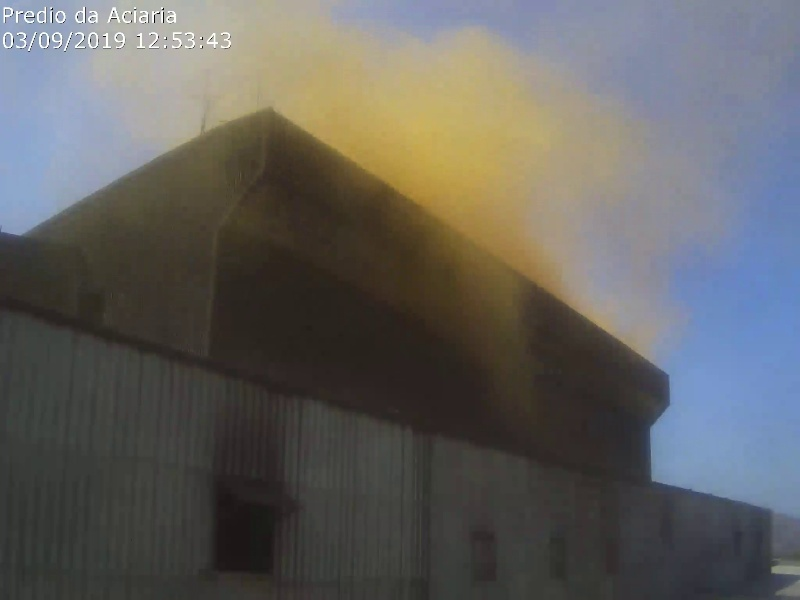pessimo: (71, 5, 701, 386)
